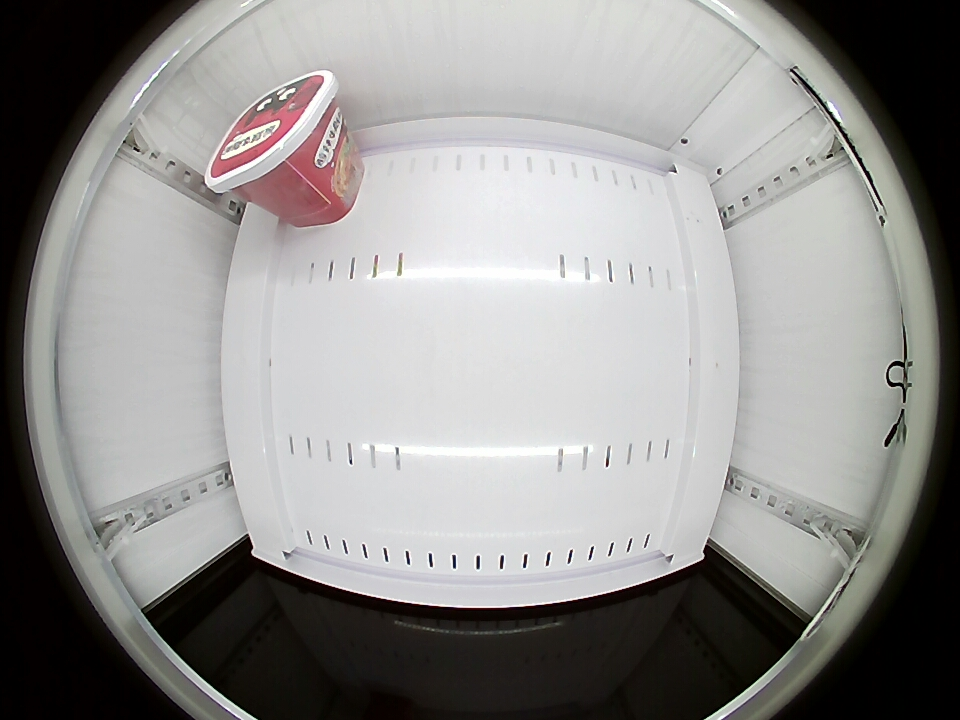niudufen: (206, 71, 343, 197)
